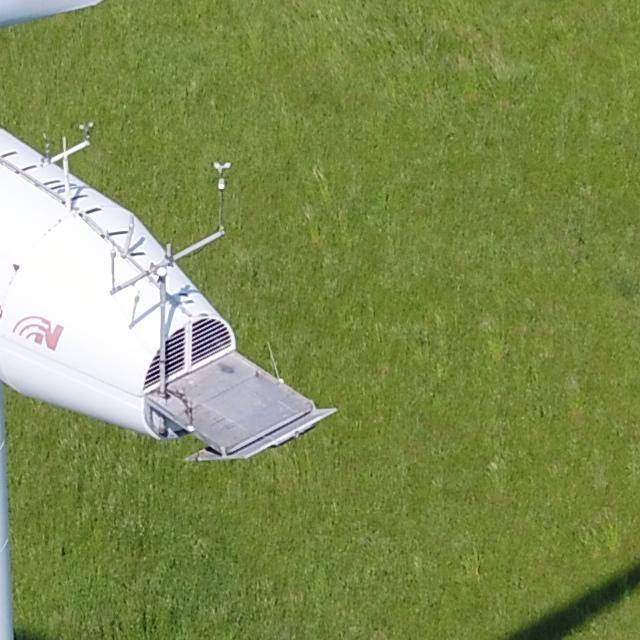damage: (12, 260, 21, 273), (1, 302, 4, 325)
